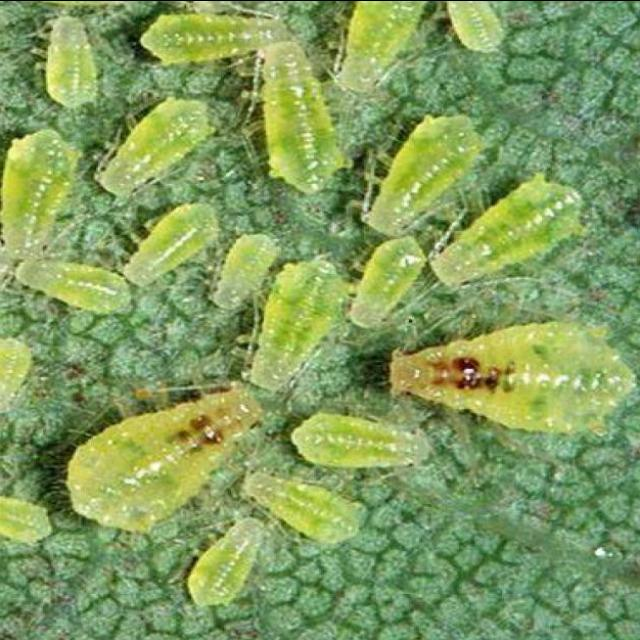Aphids: (0, 0, 640, 621)
